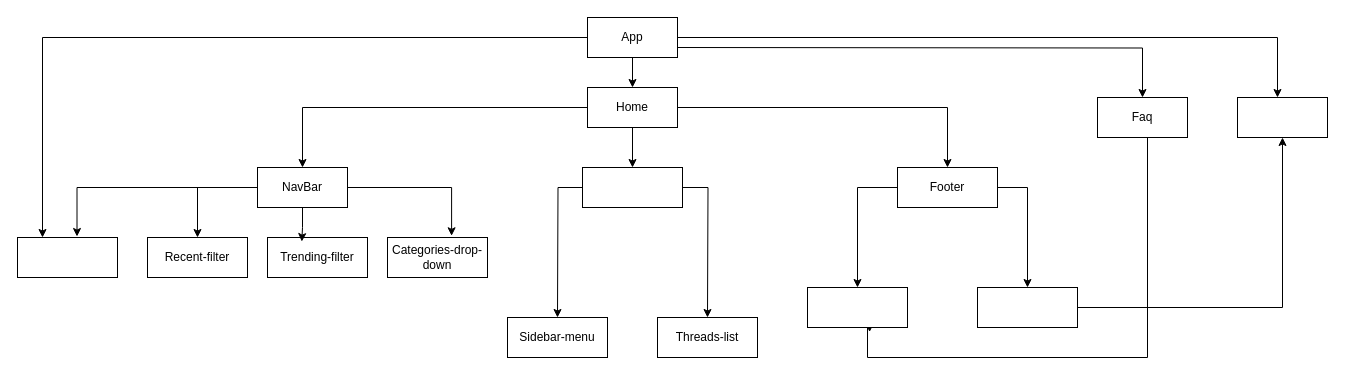
Image size: 1345x383. Some labels were removed from this diagram. The box of each missing label's shape, as (x1, y1, x2, y2) in pixels:
Contact-support: (1236, 96, 1328, 138)
Faq-link: (806, 286, 908, 328)
Get-help-link: (976, 286, 1078, 328)
Home Link: (16, 236, 118, 278)
Main Content: (582, 166, 682, 208)
